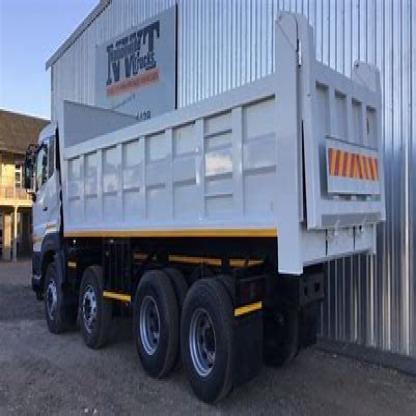dump_truck: (27, 17, 387, 396)
